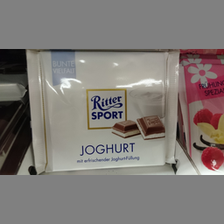chocolate: (27, 50, 180, 171)
